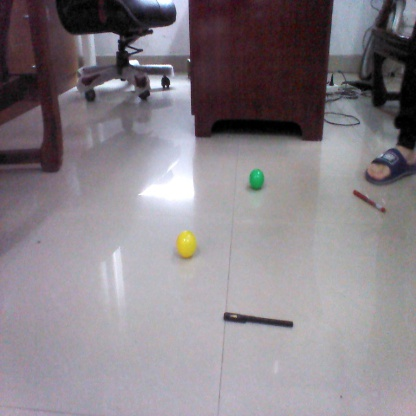ball: (168, 229, 199, 257), (245, 164, 267, 190)
pen: (221, 312, 294, 329), (353, 187, 388, 213)
